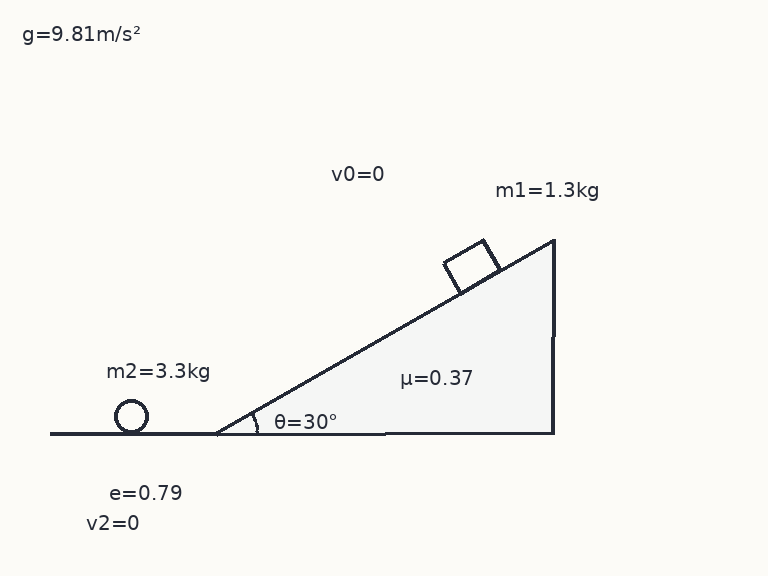ball: (112, 397, 150, 435)
block: (441, 238, 502, 295)
ramp: (215, 237, 555, 435)
